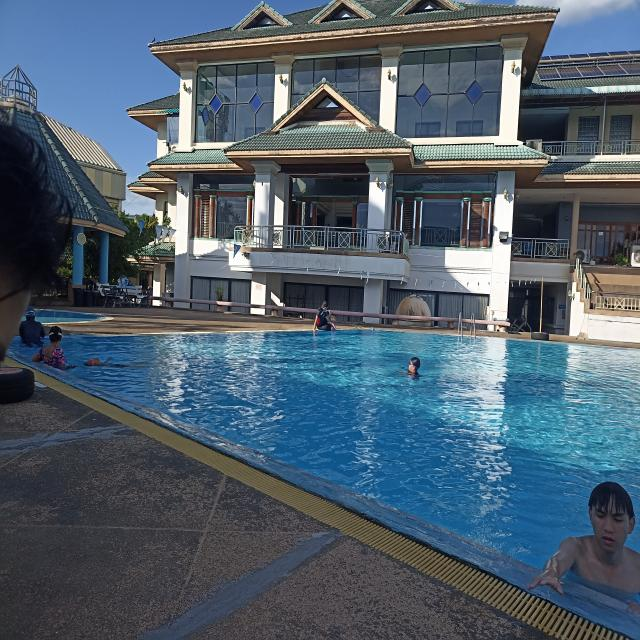Swimming: (526, 468, 640, 600), (40, 318, 76, 374), (395, 352, 432, 394), (24, 309, 47, 344)
